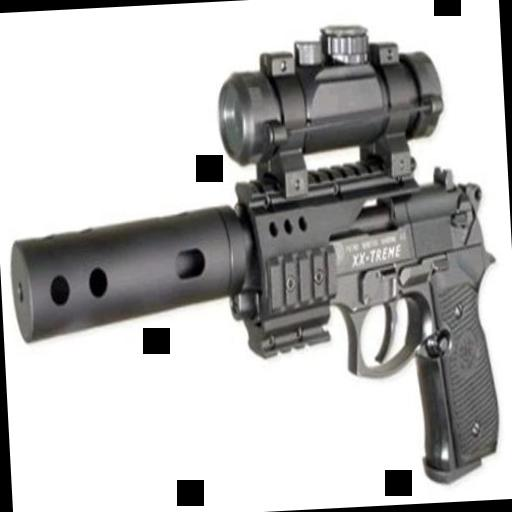Handgun: (230, 169, 499, 494)
